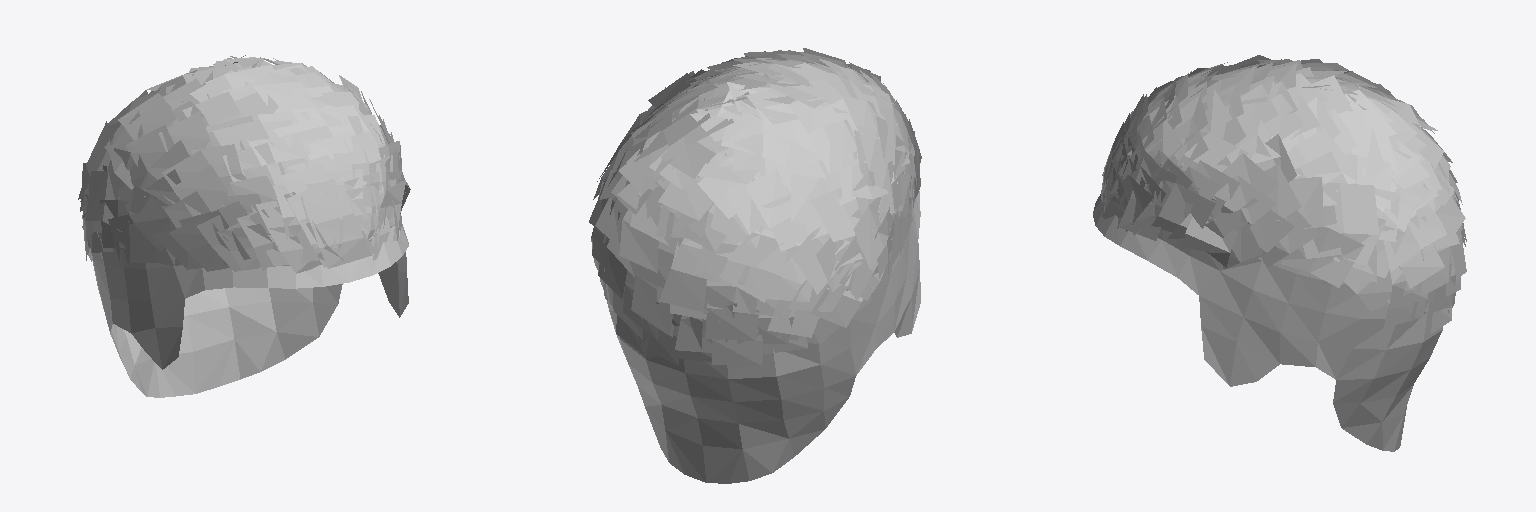
The model's file is hair_003.obj.
3 views of the same model, side by side, from view 1: azimuth 30°, elevation 25°; view 2: azimuth 150°, elevation 25°; view 3: azimuth 270°, elevation 25° (orthographic).
Size of the model in its own units: 16.57 by 21.25 by 19.74.